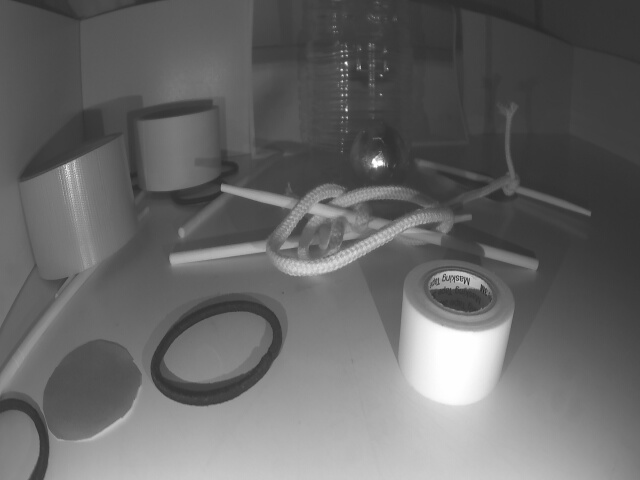Live: (350, 121, 408, 199)
